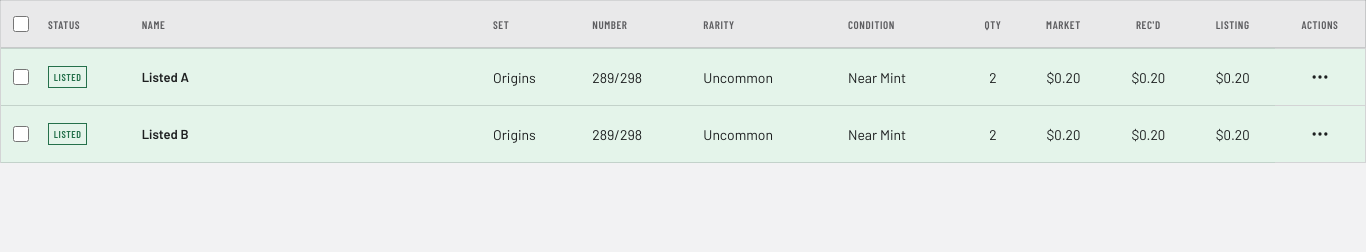
Test: CardTable sell flow (enableSellFlow) › when enableSellFlow=true and listed cards selected, shows Attach to Order button
The width and height of the screenshot is (1366, 252).
Select one listed card
Click the checkbox named "Select for attach to order" in the row of "Listed A" at point(21, 77), box x1=13 y1=69 x2=29 y2=85
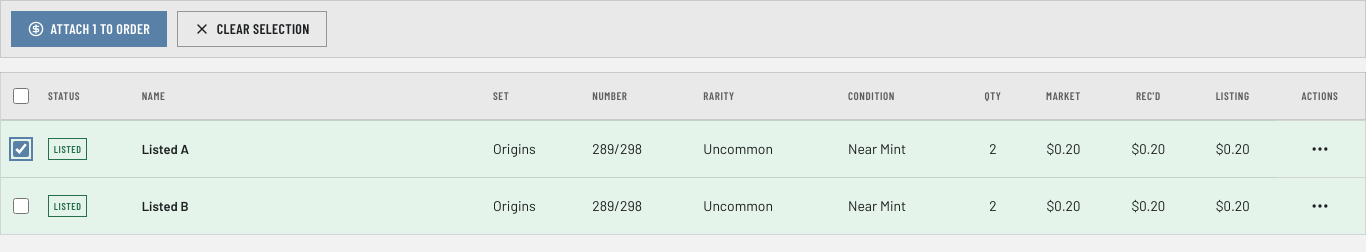
Expected: the button "Attach 1 to Order" is shown, x1=11 y1=11 x2=167 y2=47
